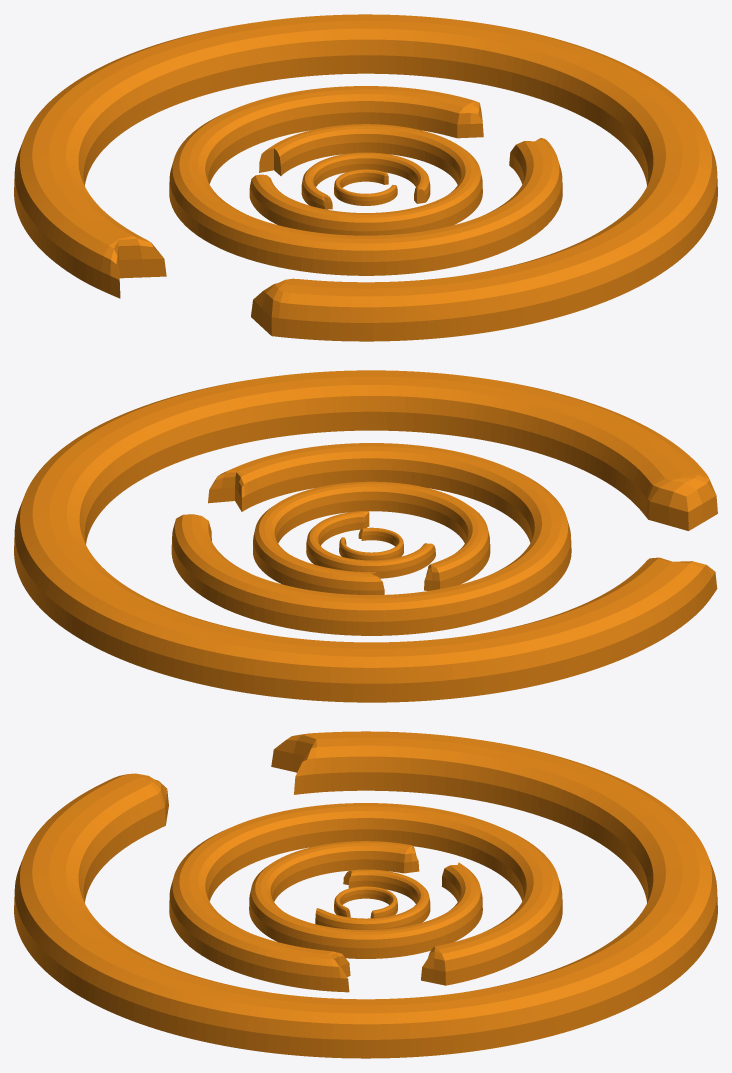
The model's file is hireco_3DScene_beveled-v2.glb.
The picture shows the model from 3 angles, top to bottom: view 1: azimuth 30°, elevation 25°; view 2: azimuth 150°, elevation 25°; view 3: azimuth 270°, elevation 25°; orthographic projection.
Visible parts, largest first — view 1: ring_1, ring_2, ring_3, ring_4, ring_5; view 2: ring_1, ring_2, ring_3, ring_4, ring_5; view 3: ring_1, ring_2, ring_3, ring_4, ring_5.
Boxes of the visible parts, <box> form: ring_1: <box>14,14,717,341</box>; ring_2: <box>169,86,562,275</box>; ring_3: <box>249,124,482,235</box>; ring_4: <box>301,152,430,209</box>; ring_5: <box>334,169,397,205</box>; ring_1: <box>14,370,717,702</box>; ring_2: <box>171,443,571,635</box>; ring_3: <box>253,481,490,594</box>; ring_4: <box>306,510,435,578</box>; ring_5: <box>339,527,403,560</box>; ring_1: <box>14,731,717,1058</box>; ring_2: <box>169,803,562,992</box>; ring_3: <box>249,841,482,958</box>; ring_4: <box>315,869,430,929</box>; ring_5: <box>334,886,397,918</box>.
Bounding box in the file's own units: 1.55 × 0.0925 × 1.55.
